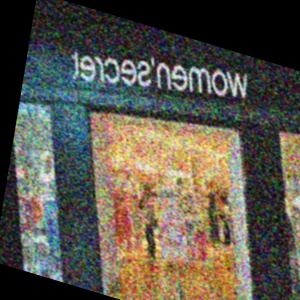women_secret: (237, 59, 276, 82)
